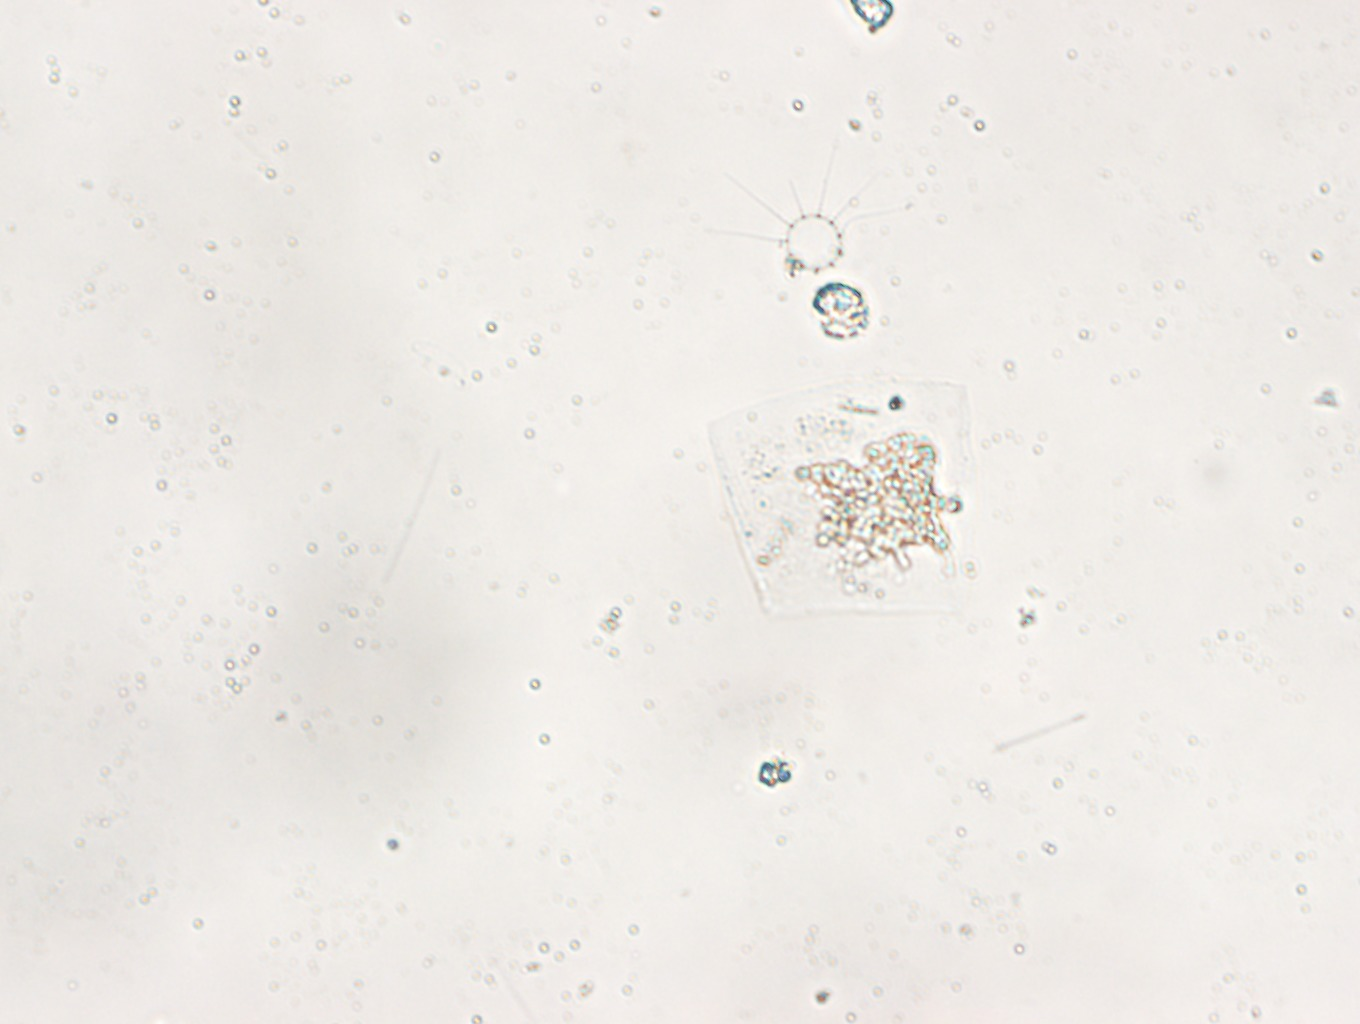bacteriastrum: (699, 139, 910, 275)
helicotheca: (705, 374, 980, 620)
